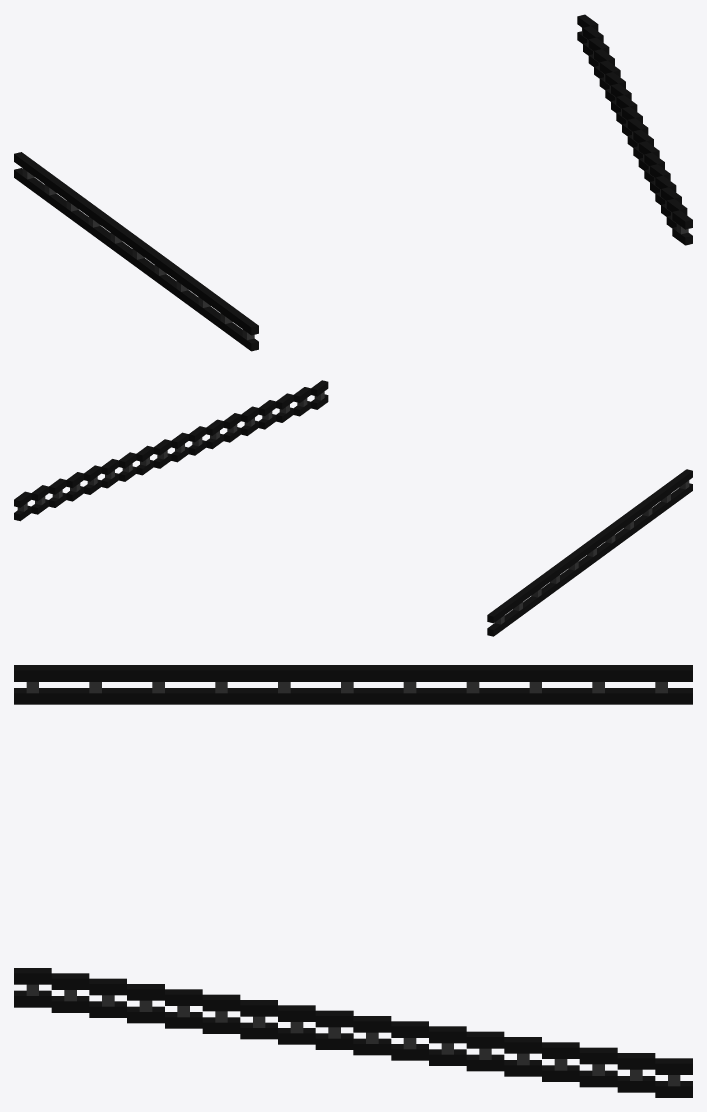
Rendered from Split_0-4.obj.
3 renders of one model, top to bottom at view 1: azimuth 30°, elevation 25°; view 2: azimuth 150°, elevation 25°; view 3: azimuth 270°, elevation 25°, orthographic. The views are drawn at different scales.
Visible parts, largest first — view 1: Split_0-4; view 2: Split_0-4; view 3: Split_0-4.
Boxes of the visible parts, box(x1,y1,x2,y2) form: Split_0-4: box(14, 14, 692, 351); Split_0-4: box(14, 380, 692, 636); Split_0-4: box(14, 665, 692, 1097).
Bounding box in the file's own units: 75 × 3 × 54.
1 material, 1 textured.
